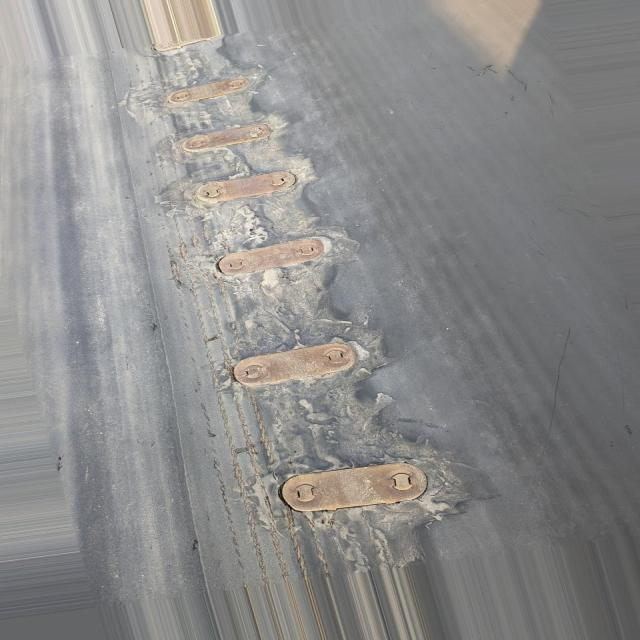patch work: (125, 23, 498, 582)
